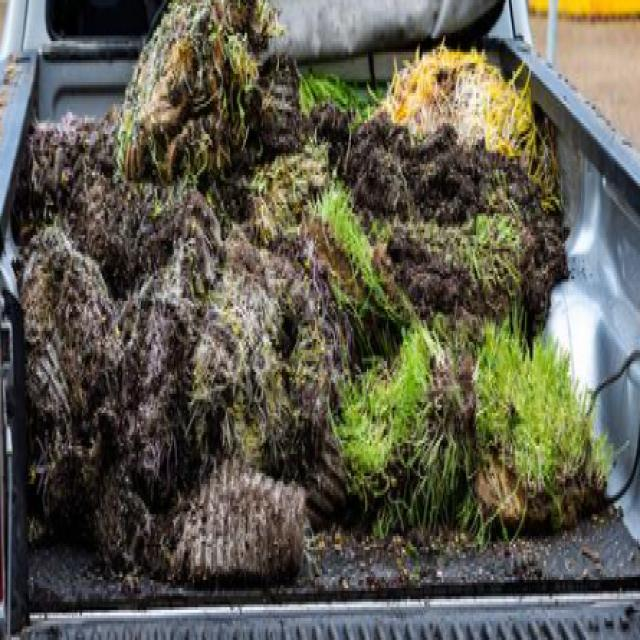paper: (470, 314, 605, 490)
